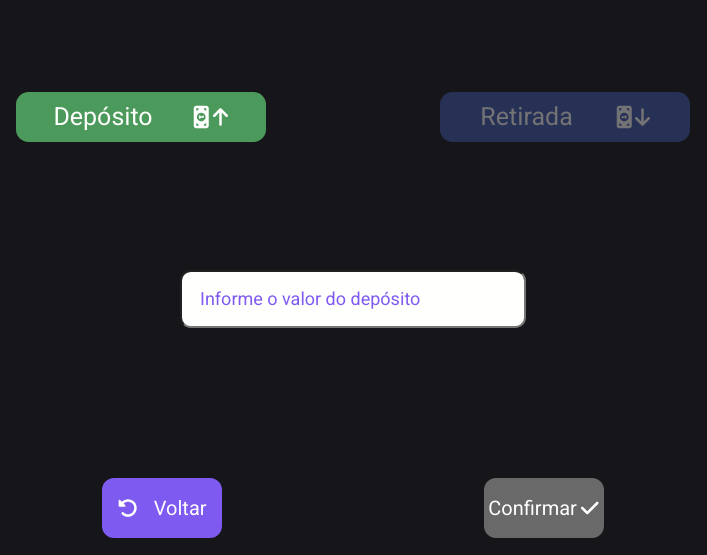
Test: Teste o componente TransactionForms › Teste se ao Confirmar a ação a tela de sucesso é mostrada
This screenshot has width=707, height=555.
Expected: the heading "processo realizado com sucesso!" is not shown
In the number field: (353, 299) [180, 270, 526, 328], type "100"
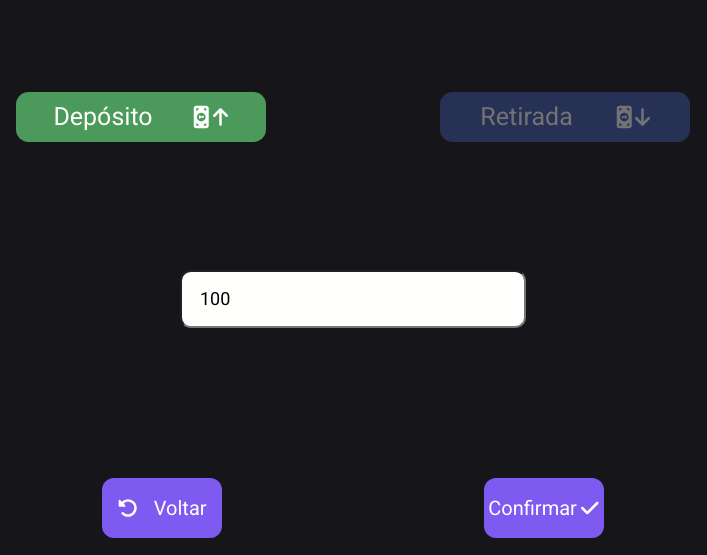
Click the button "Confirmar": click(544, 508) [484, 478, 604, 538]
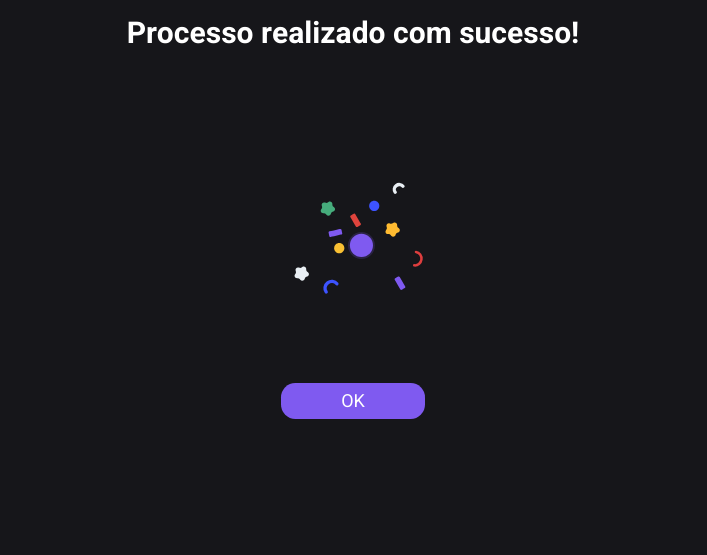
Now the heading "Processo realizado com sucesso!" is shown, box [127, 12, 579, 56]
